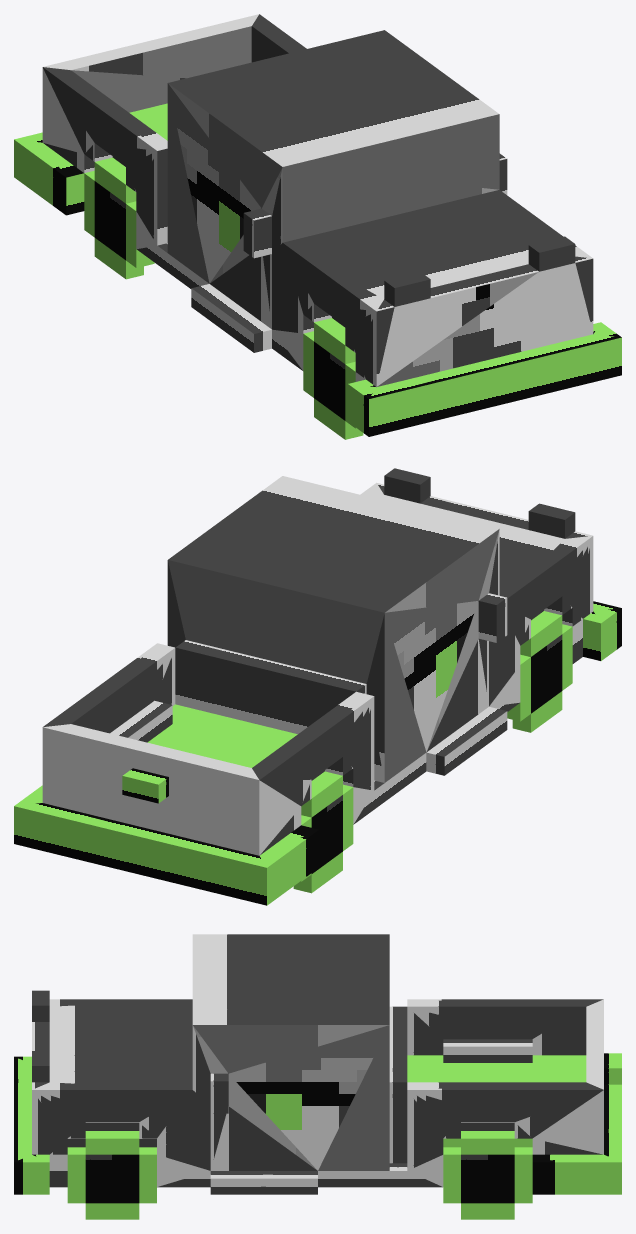
File: veh_truck3.fbx
The picture shows the model from 3 angles, top to bottom: view 1: azimuth 30°, elevation 25°; view 2: azimuth 150°, elevation 25°; view 3: azimuth 270°, elevation 25°; orthographic projection. The views are drawn at different scales.
Visible parts, largest first — view 1: veh_truck3; view 2: veh_truck3; view 3: veh_truck3.
Part boxes in pixels (x1,y1,x2,y2): veh_truck3: [14, 14, 621, 439]; veh_truck3: [14, 468, 621, 905]; veh_truck3: [14, 934, 621, 1219].
Size of the model in its own units: 1.4 by 3.4 by 1.2.
